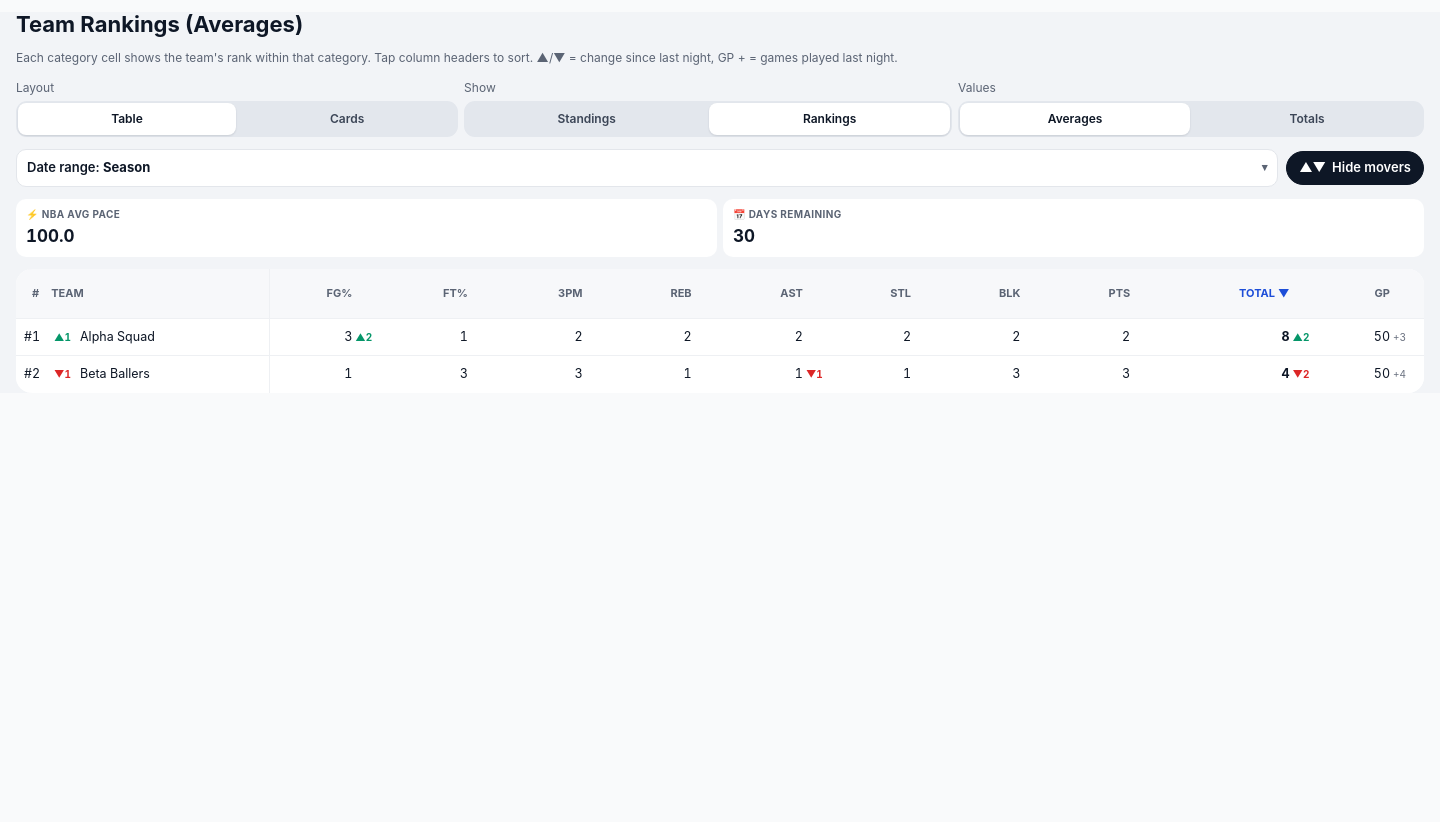
Test: Rankings page — phone redesign › Cards layout shows one card per team with Total, GP, categories and a Sort by control
Expected: the table is shown, left=16, top=269, right=1424, bottom=393
Step 1. Click the radio button labelled "Cards" → click(347, 119), box left=238, top=103, right=456, bottom=135
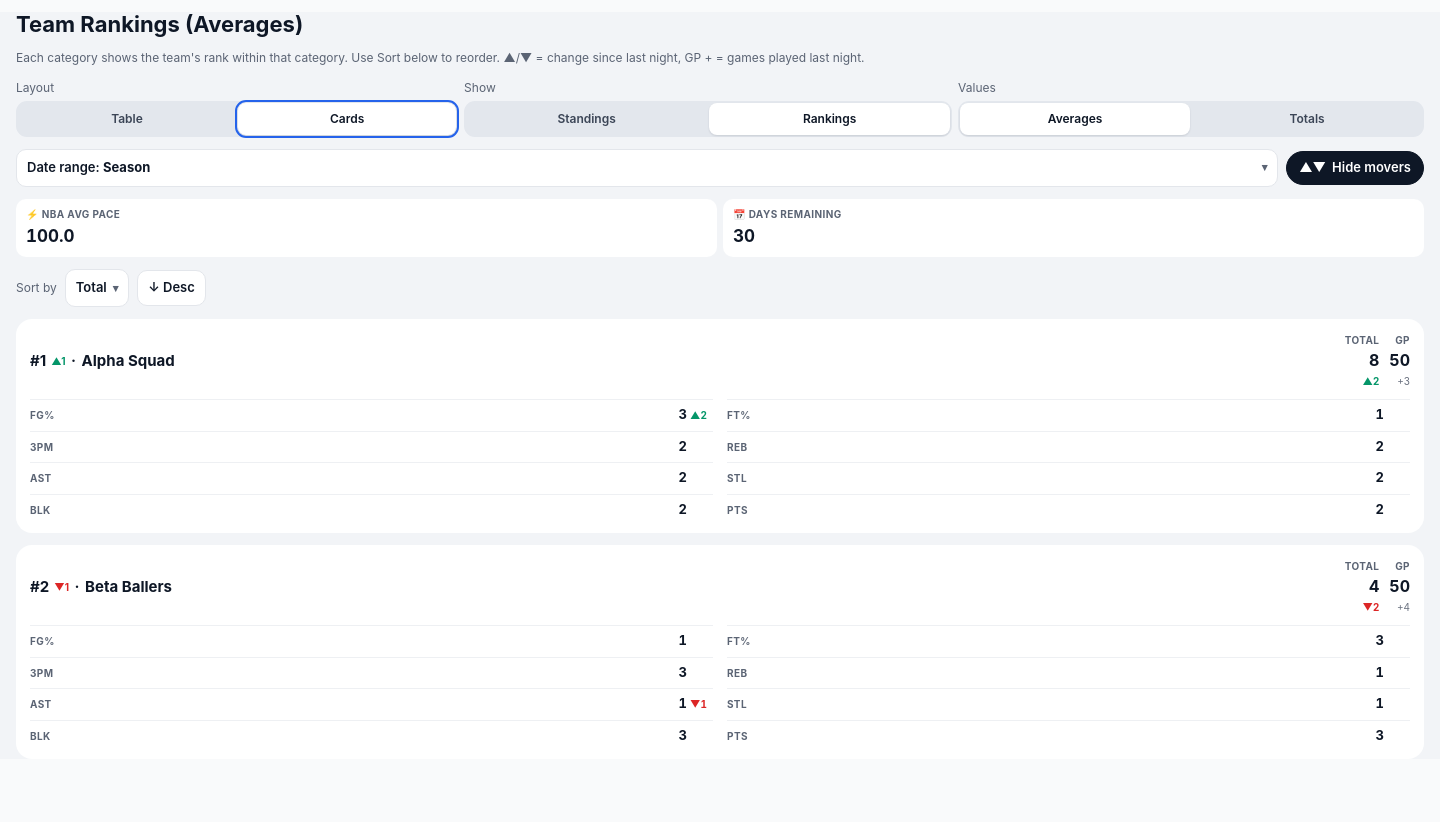
Result: the table is gone
Result: the number of list items is 2 at left=16, top=319, right=1424, bottom=533; left=16, top=545, right=1424, bottom=759
Result: the 2nd text "Total" is shown at left=1345, top=333, right=1379, bottom=348
